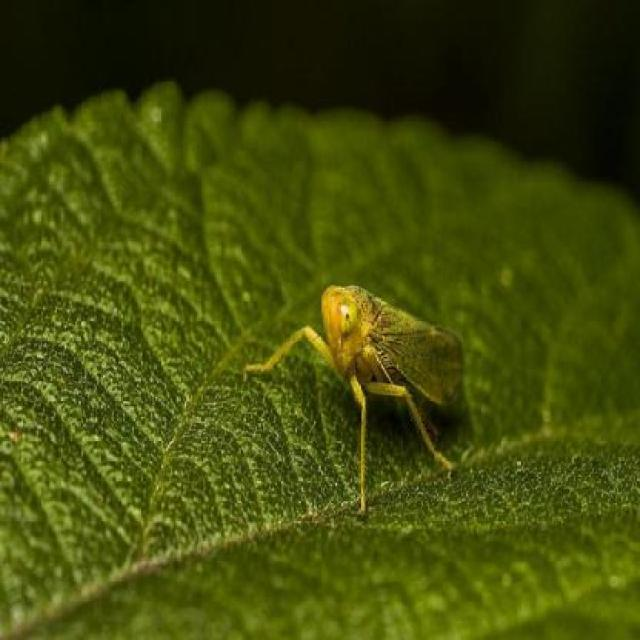green-leafhopper: (247, 279, 470, 501)
